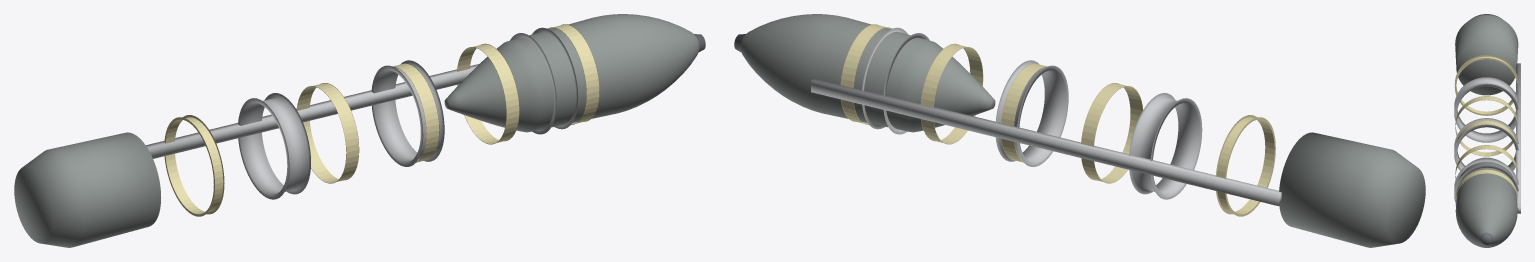
Rendered from RU_SLBM_R29RMU2_Liner_LOD0.fbx.
3 renders of one model, left to right at view 1: azimuth 30°, elevation 25°; view 2: azimuth 150°, elevation 25°; view 3: azimuth 270°, elevation 25°, orthographic. The views are drawn at different scales.
Parts seen in each view (by area): view 1: WPN_RU_SLBM_R29RMU2_Liner_LOD0_Body, WPN_RU_SLBM_R29RMU2_Liner_LOD0_Tail, WPN_RU_SLBM_R29RMU2_Liner_LOD0_Detail, WPN_RU_SLBM_R29RMU2_Liner_LOD0_Marking; view 2: WPN_RU_SLBM_R29RMU2_Liner_LOD0_Detail, WPN_RU_SLBM_R29RMU2_Liner_LOD0_Body, WPN_RU_SLBM_R29RMU2_Liner_LOD0_Tail, WPN_RU_SLBM_R29RMU2_Liner_LOD0_Marking; view 3: WPN_RU_SLBM_R29RMU2_Liner_LOD0_Body, WPN_RU_SLBM_R29RMU2_Liner_LOD0_Tail, WPN_RU_SLBM_R29RMU2_Liner_LOD0_Detail, WPN_RU_SLBM_R29RMU2_Liner_LOD0_Marking, WPN_RU_SLBM_R29RMU2_Liner_LOD0_Nose.
Boxes of the visible parts, box(x1,y1,x2,y2) form: WPN_RU_SLBM_R29RMU2_Liner_LOD0_Body: box(444, 14, 699, 132); WPN_RU_SLBM_R29RMU2_Liner_LOD0_Tail: box(14, 132, 161, 247); WPN_RU_SLBM_R29RMU2_Liner_LOD0_Detail: box(146, 27, 578, 199); WPN_RU_SLBM_R29RMU2_Liner_LOD0_Marking: box(164, 24, 599, 216); WPN_RU_SLBM_R29RMU2_Liner_LOD0_Detail: box(811, 27, 1281, 205); WPN_RU_SLBM_R29RMU2_Liner_LOD0_Body: box(740, 14, 995, 132); WPN_RU_SLBM_R29RMU2_Liner_LOD0_Tail: box(1279, 132, 1425, 247); WPN_RU_SLBM_R29RMU2_Liner_LOD0_Marking: box(840, 24, 1275, 216); WPN_RU_SLBM_R29RMU2_Liner_LOD0_Body: box(1455, 157, 1517, 247); WPN_RU_SLBM_R29RMU2_Liner_LOD0_Tail: box(1455, 14, 1518, 95); WPN_RU_SLBM_R29RMU2_Liner_LOD0_Detail: box(1454, 63, 1520, 213); WPN_RU_SLBM_R29RMU2_Liner_LOD0_Marking: box(1454, 55, 1518, 205); WPN_RU_SLBM_R29RMU2_Liner_LOD0_Nose: box(1480, 232, 1492, 244).
Size of the model in its own units: 14.8 by 2.04 by 2.
